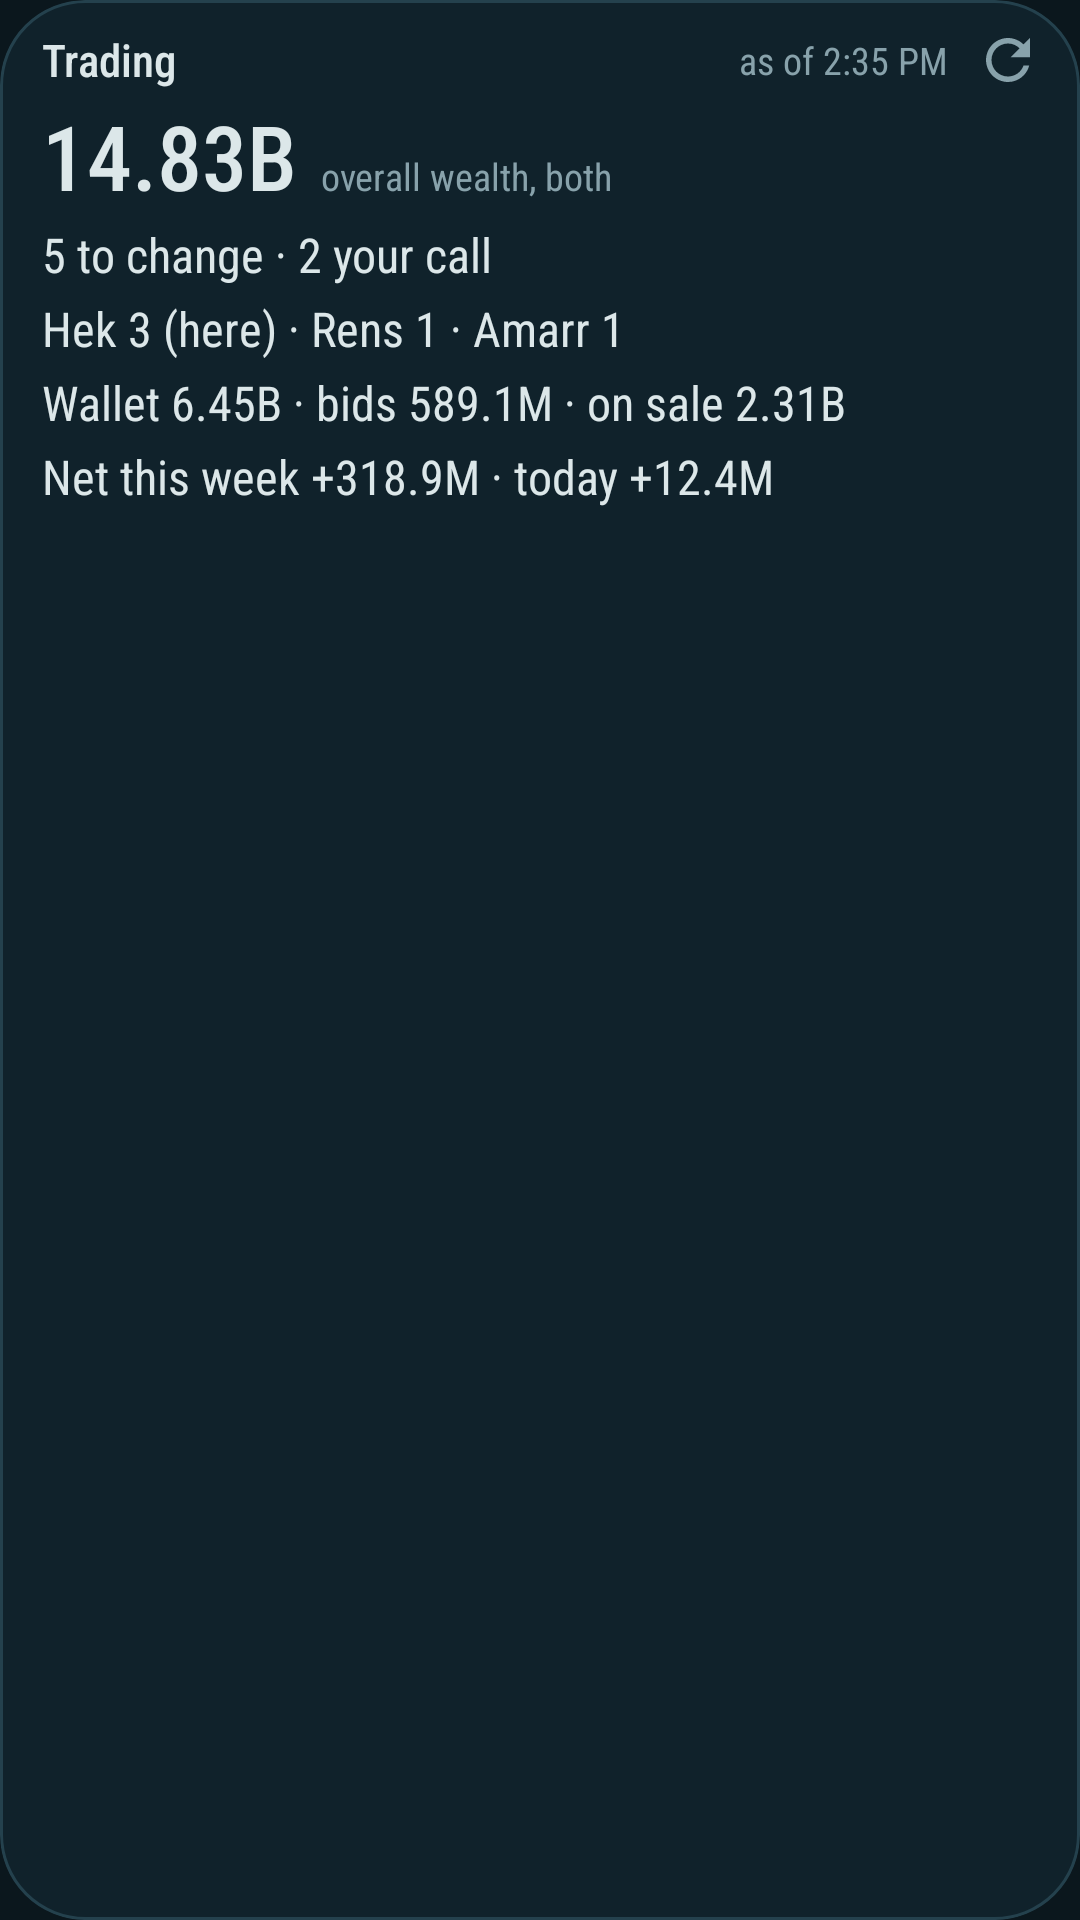

Icons on this 1080 x 1920 Android screen, each with its box as region(x1, y1, x2, y2):
Refresh: region(986, 38, 1030, 82)
